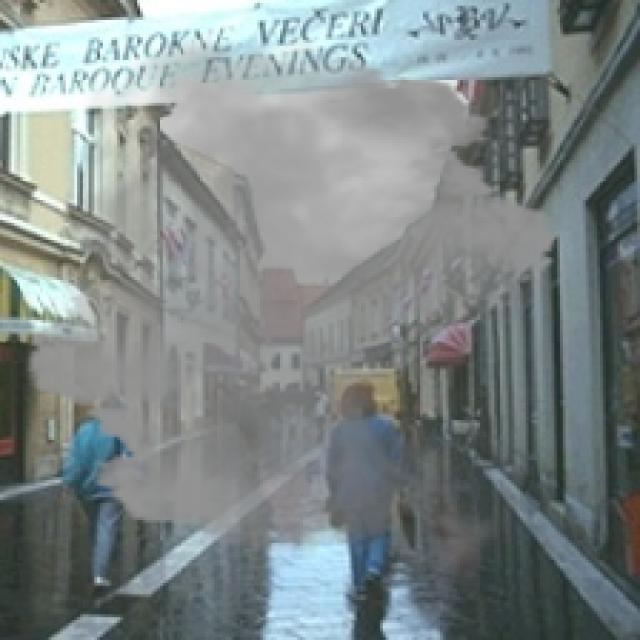smoke: (9, 26, 574, 591)
